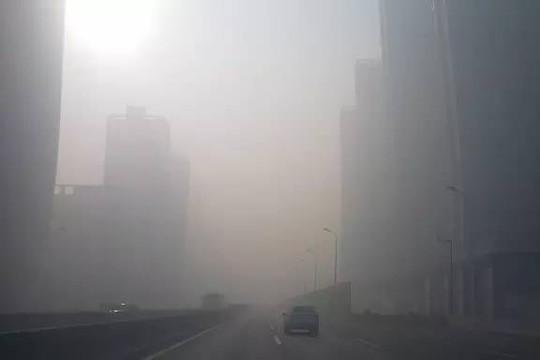car: (280, 304, 320, 336)
